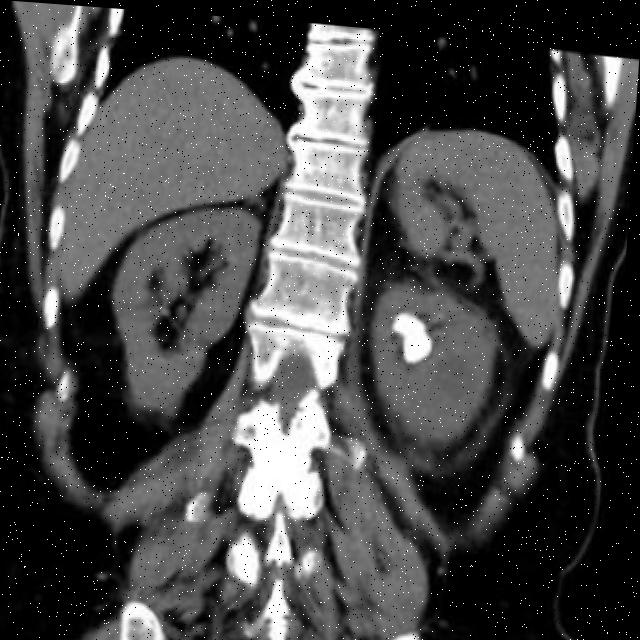Tas_Var: (388, 294, 442, 366)
